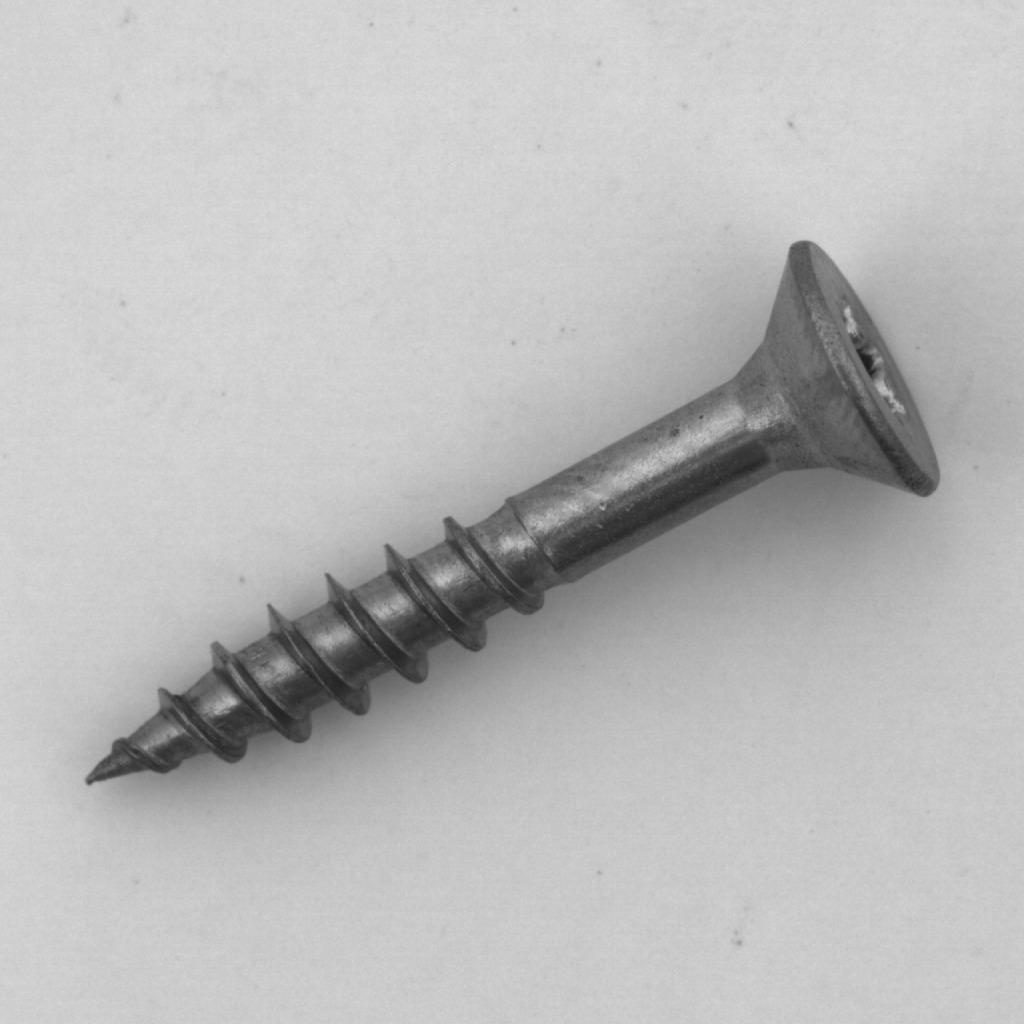good: (62, 220, 956, 805)
